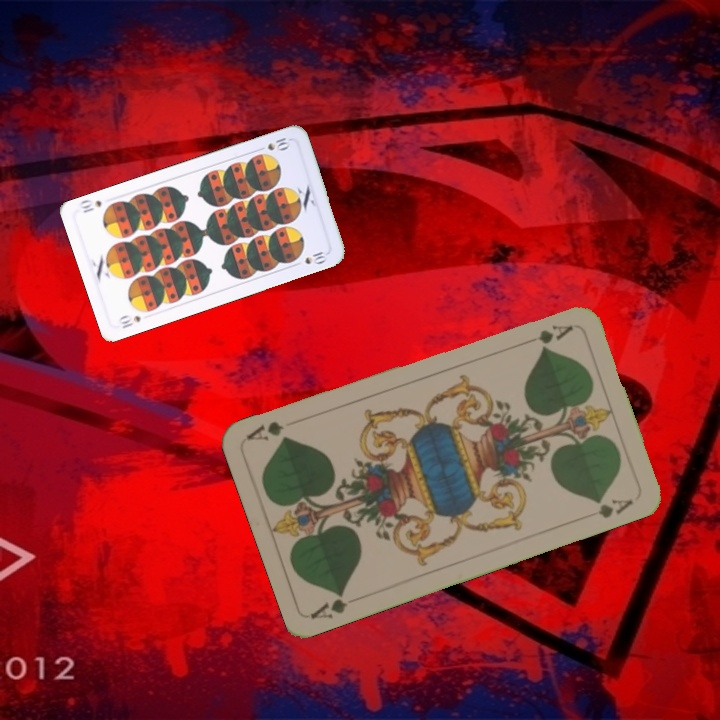GA: (518, 321, 575, 348), (307, 588, 350, 622)
S10: (253, 133, 293, 154), (114, 311, 144, 331)
